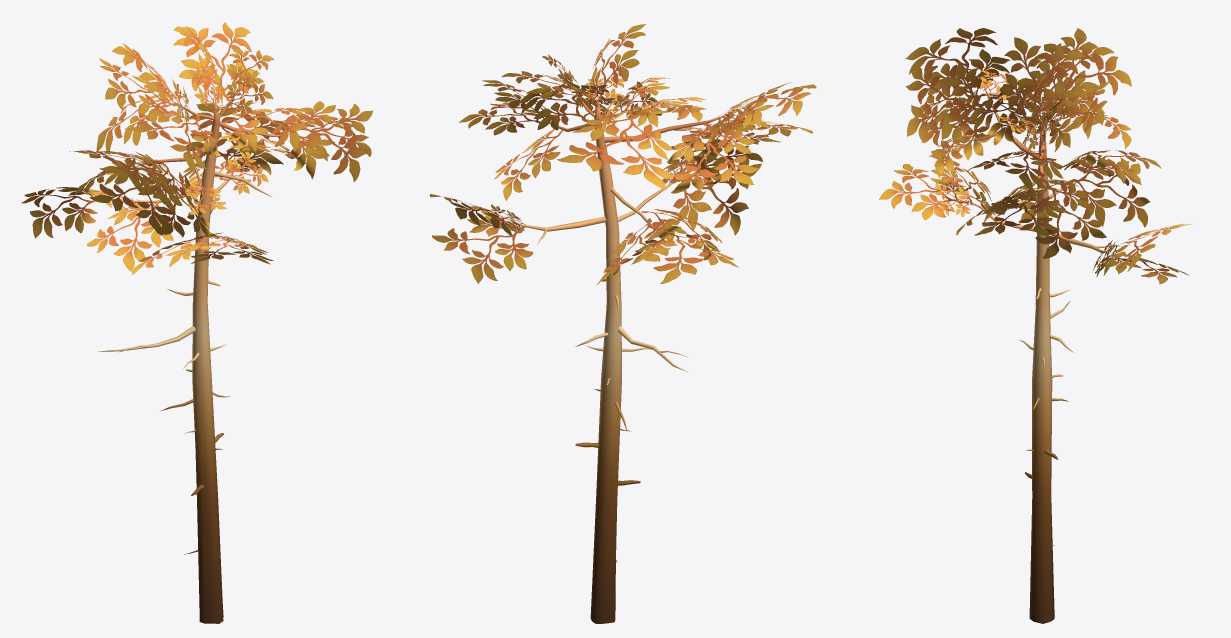
The model's file is Tree_4.fbx.
3 views of the same model, side by side, from view 1: azimuth 30°, elevation 25°; view 2: azimuth 150°, elevation 25°; view 3: azimuth 270°, elevation 25° (orthographic). The views are drawn at different scales.
Parts seen in each view (by area): view 1: Foliage, Trunk4; view 2: Foliage, Trunk4; view 3: Foliage, Trunk4.
Boxes of the visible parts, bbox=[...] form: Foliage: bbox=[21, 22, 372, 274]; Trunk4: bbox=[98, 84, 289, 623]; Foliage: bbox=[429, 24, 816, 285]; Trunk4: bbox=[511, 86, 732, 623]; Foliage: bbox=[879, 28, 1193, 284]; Trunk4: bbox=[963, 90, 1121, 623].
Bounding box in the file's own units: 447 × 759 × 422.
